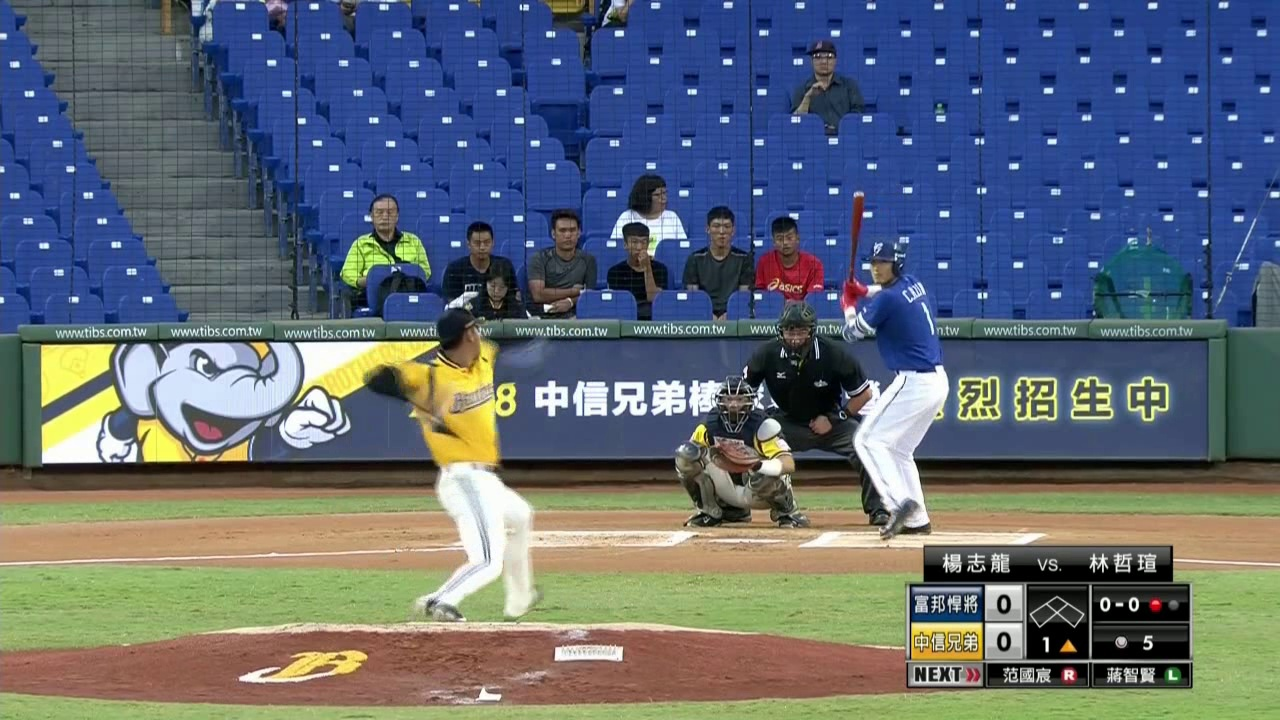base: (1028, 591, 1086, 630)
bat: (847, 187, 865, 284)
out: (1148, 595, 1182, 615)
score1: (986, 585, 1021, 620)
score2: (985, 622, 1022, 658)
session: (1033, 634, 1082, 654)
strikeball: (1097, 591, 1141, 615)
total: (1108, 628, 1161, 655)
